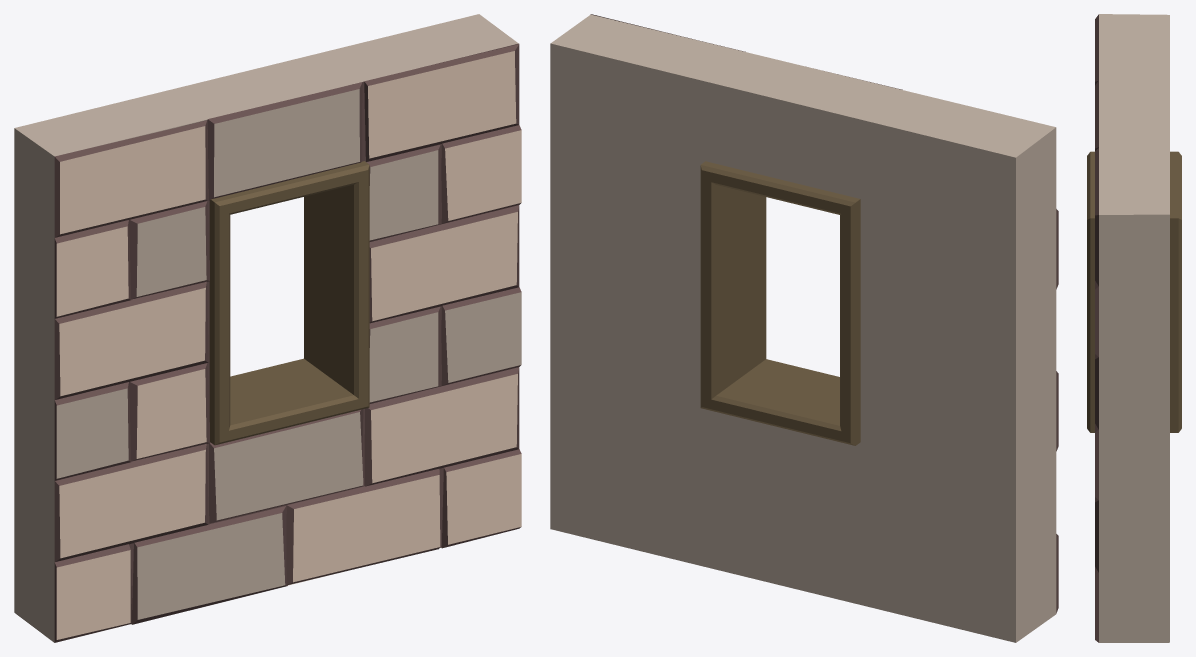
The model's file is greek_wall_1_window_single_sided.fbx.
3 renders of one model, left to right at view 1: azimuth 30°, elevation 25°; view 2: azimuth 150°, elevation 25°; view 3: azimuth 270°, elevation 25°, orthographic. The views are drawn at different scales.
Parts seen in each view (by area): view 1: Cube.063; view 2: Cube.063; view 3: Cube.063.
Part boxes in pixels (bbox=[...]): Cube.063: bbox=[14, 14, 521, 642]; Cube.063: bbox=[550, 14, 1058, 642]; Cube.063: bbox=[1087, 14, 1181, 642].
Bounding box in the file's own units: 300 × 301 × 60.
